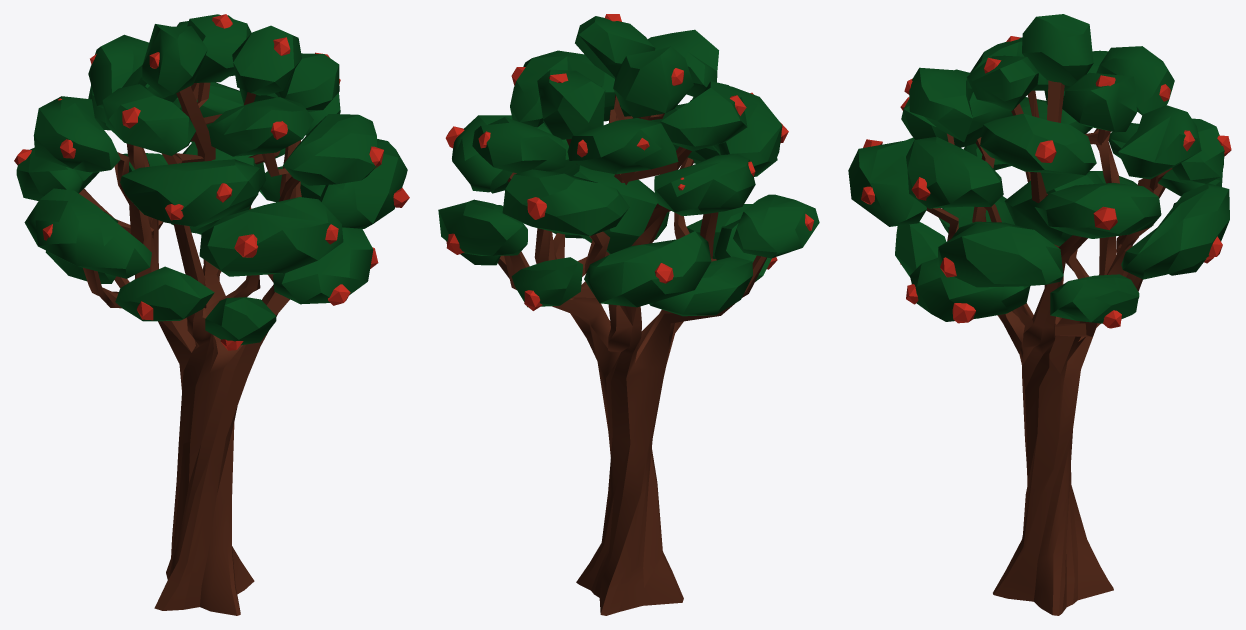
The model's file is Tree_1_High_WF.fbx.
The picture shows the model from 3 angles, left to right: view 1: azimuth 30°, elevation 25°; view 2: azimuth 150°, elevation 25°; view 3: azimuth 270°, elevation 25°; orthographic projection. The views are drawn at different scales.
Parts seen in each view (by area): view 1: Tree_1_High_WF; view 2: Tree_1_High_WF; view 3: Tree_1_High_WF.
Part boxes in pixels (x1,y1,x2,y2): Tree_1_High_WF: (14, 14, 409, 615); Tree_1_High_WF: (438, 14, 819, 615); Tree_1_High_WF: (848, 14, 1231, 615).
Bounding box in the file's own units: 161 × 253 × 157.
